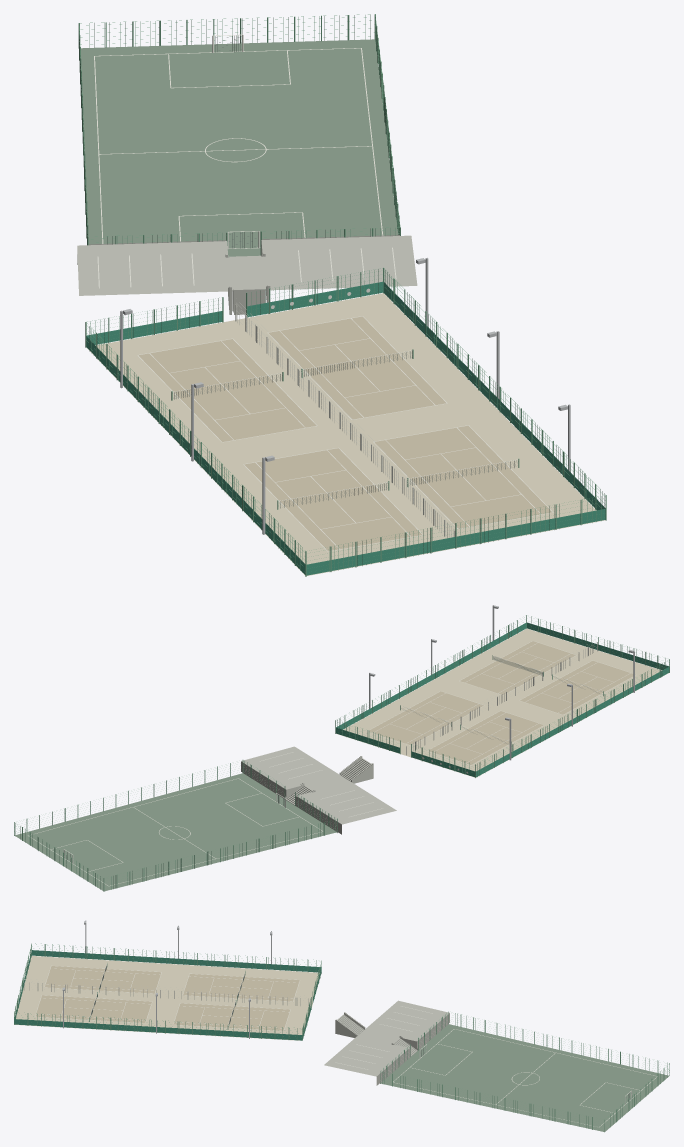
3 renders of one model, top to bottom at view 1: azimuth 30°, elevation 25°; view 2: azimuth 150°, elevation 25°; view 3: azimuth 270°, elevation 25°, orthographic. The views are drawn at different scales.
Visible parts, largest first — view 1: C12 pitch, C14 buff playing surface, C14 cream tennis surround, C12 upper terrace paving, C14 perimeter green screen, C14 perimeter mesh, C14 tennis lines, C14 perimeter posts, C12 fence mesh, C14 divider mesh, C12 fence posts, C14 light pole (+2 smaller); view 2: C12 pitch, C14 buff playing surface, C14 cream tennis surround, C12 upper terrace paving, C14 perimeter green screen, C14 perimeter mesh, C14 tennis lines, C14 perimeter posts, C12 fence posts, C12 fence mesh, C12 lines, C12 stone retaining wall (+2 smaller); view 3: C12 pitch, C14 buff playing surface, C14 cream tennis surround, C12 upper terrace paving, C14 perimeter green screen, C14 perimeter mesh, C14 tennis lines, C12 fence mesh, C14 perimeter posts, C12 fence posts, C12 lines, C12 stone retaining wall (+2 smaller).
Part boxes in pixels (left/top/right/bottom): C12 pitch: left=81, top=39, right=398, bottom=257; C14 buff playing surface: left=138, top=316, right=552, bottom=551; C14 cream tennis surround: left=86, top=293, right=605, bottom=575; C12 upper terrace paving: left=77, top=235, right=417, bottom=295; C14 perimeter green screen: left=86, top=281, right=605, bottom=575; C14 perimeter mesh: left=86, top=268, right=605, bottom=572; C14 tennis lines: left=137, top=316, right=553, bottom=551; C14 perimeter posts: left=85, top=267, right=606, bottom=576; C12 fence mesh: left=79, top=14, right=400, bottom=244; C14 divider mesh: left=236, top=302, right=454, bottom=537; C12 fence posts: left=78, top=14, right=400, bottom=255; C14 light pole: left=120, top=257, right=570, bottom=534; C12 pitch: left=14, top=773, right=336, bottom=891; C14 buff playing surface: left=368, top=641, right=635, bottom=764; C14 cream tennis surround: left=336, top=628, right=668, bottom=777; C12 upper terrace paving: left=241, top=746, right=396, bottom=834; C14 perimeter green screen: left=336, top=622, right=669, bottom=777; C14 perimeter mesh: left=337, top=616, right=667, bottom=776; C14 tennis lines: left=367, top=641, right=636, bottom=765; C14 perimeter posts: left=335, top=615, right=669, bottom=777; C12 fence posts: left=14, top=760, right=337, bottom=891; C12 fence mesh: left=15, top=760, right=337, bottom=889; C12 lines: left=28, top=778, right=322, bottom=886; C12 stone retaining wall: left=243, top=764, right=337, bottom=832; C12 pitch: left=380, top=1024, right=669, bottom=1131; C14 buff playing surface: left=35, top=966, right=299, bottom=1030; C14 cream tennis surround: left=14, top=956, right=319, bottom=1040; C12 upper terrace paving: left=324, top=1000, right=449, bottom=1085; C14 perimeter green screen: left=14, top=950, right=321, bottom=1040; C14 perimeter mesh: left=14, top=943, right=321, bottom=1040; C14 tennis lines: left=35, top=965, right=299, bottom=1030; C12 fence mesh: left=381, top=1013, right=669, bottom=1128; C14 perimeter posts: left=14, top=943, right=321, bottom=1040; C12 fence posts: left=380, top=1011, right=669, bottom=1132; C12 lines: left=393, top=1029, right=657, bottom=1127; C12 stone retaining wall: left=380, top=1016, right=448, bottom=1083.
Size of the model in its own units: 79.21 by 13.78 by 140.
